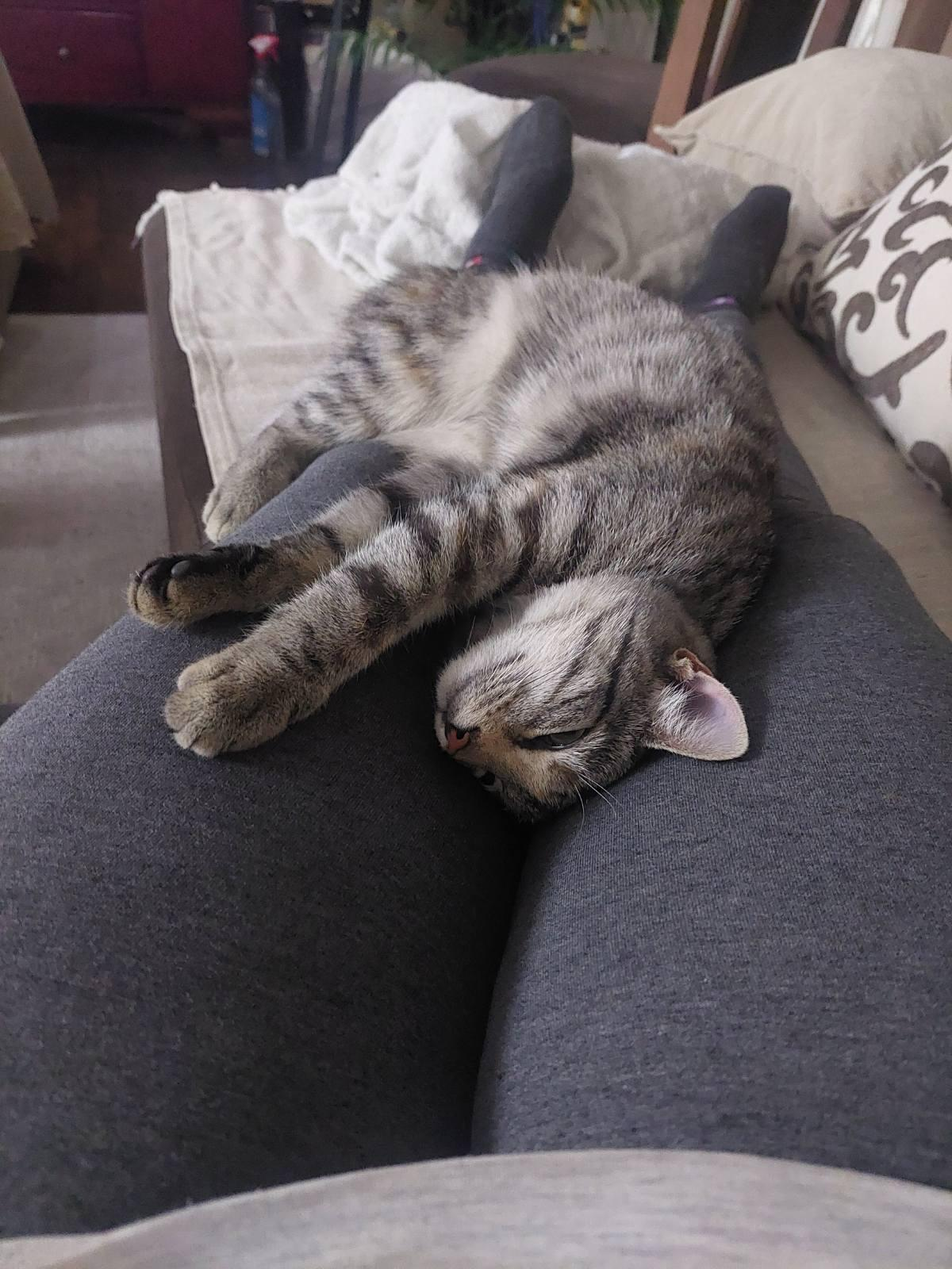macka: (125, 267, 783, 815)
